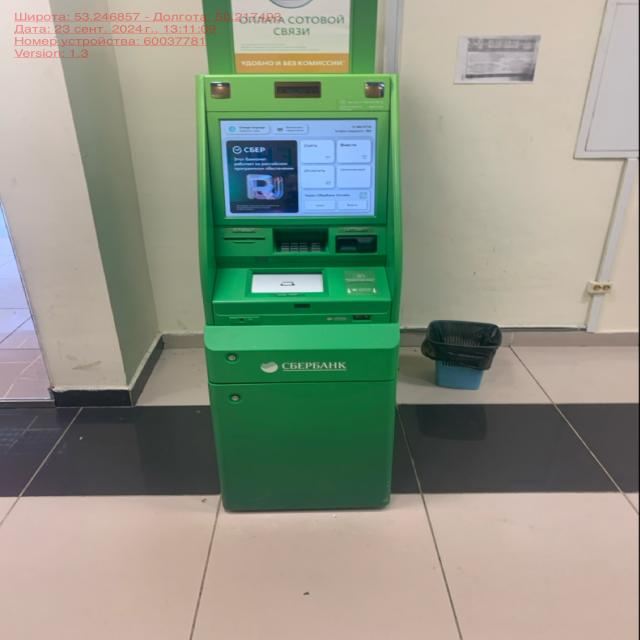bank: (192, 62, 411, 518)
